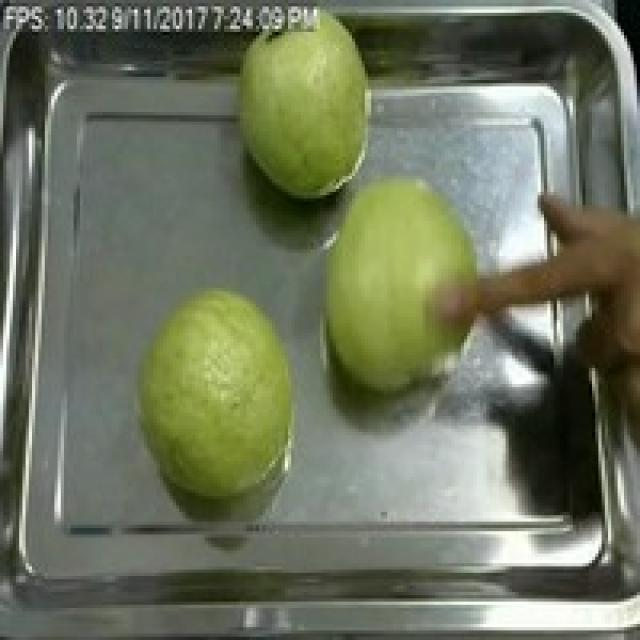Fruit: (308, 160, 502, 406), (124, 275, 314, 506), (224, 7, 384, 212)
